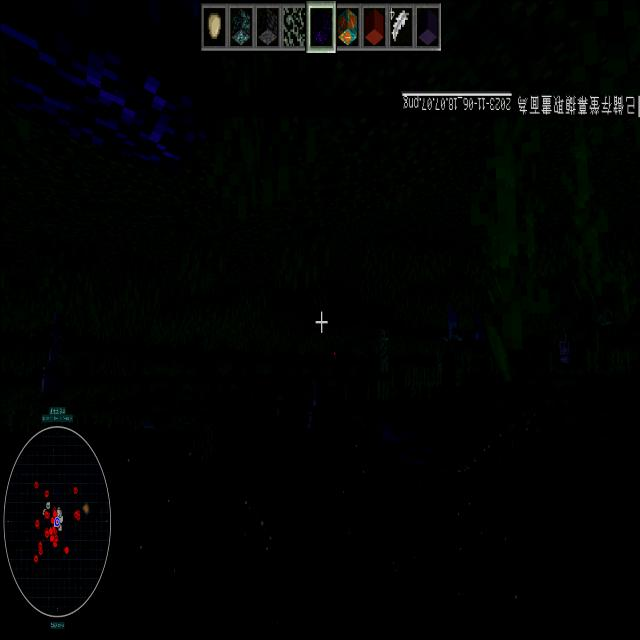Creeper: (372, 320, 393, 380), (596, 304, 612, 332), (272, 388, 284, 420), (432, 350, 444, 378)
Skeleton: (35, 290, 74, 398), (556, 324, 572, 368), (304, 397, 315, 435), (310, 371, 318, 409)
Spider: (324, 338, 354, 362)
Zombie: (460, 286, 492, 362), (439, 284, 464, 362), (146, 414, 157, 438), (141, 416, 149, 436)
